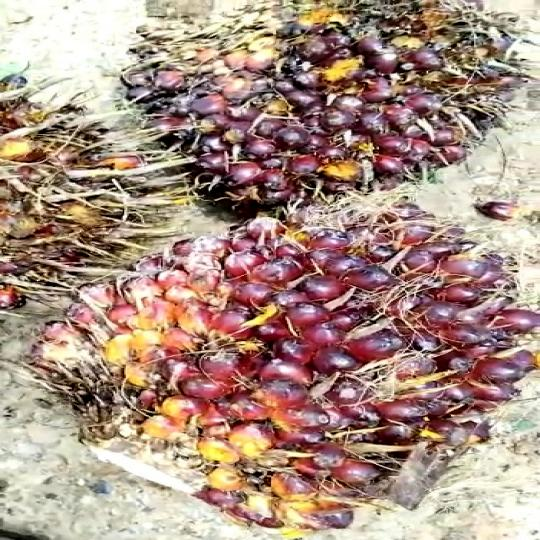masak: (38, 208, 540, 532), (107, 0, 538, 217)
